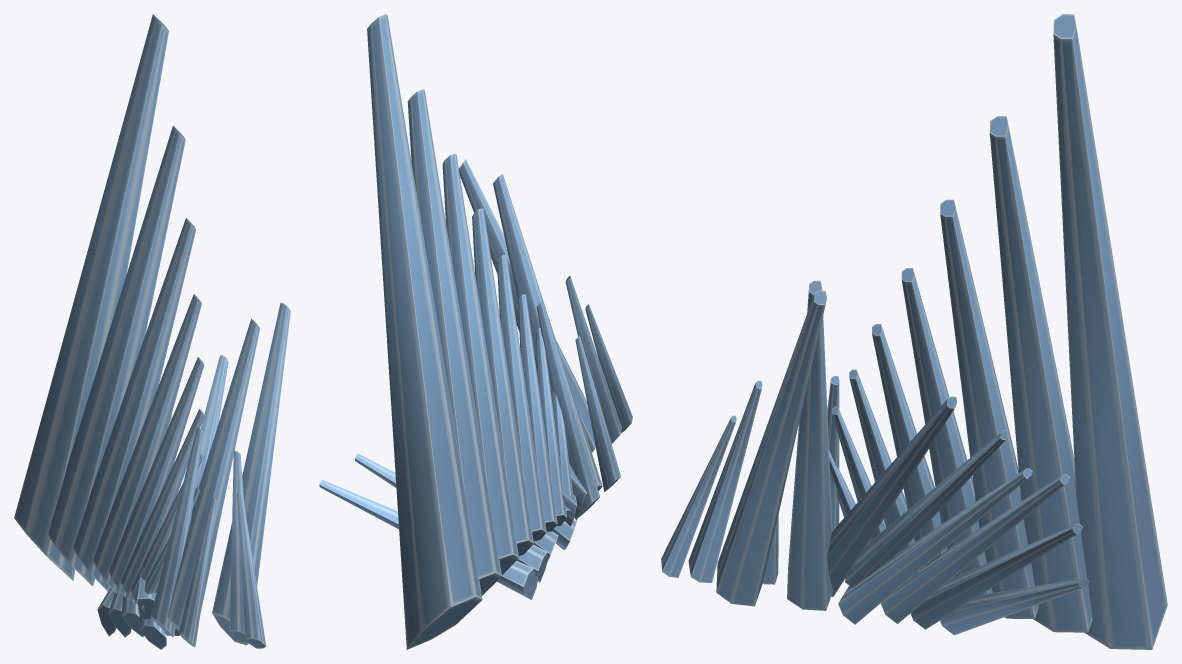
File: wall_railing_04.fbx
3 renders of one model, left to right at view 1: azimuth 30°, elevation 25°; view 2: azimuth 150°, elevation 25°; view 3: azimuth 270°, elevation 25°, orthographic. The views are drawn at different scales.
Parts seen in each view (by area): view 1: wall_railing_04; view 2: wall_railing_04; view 3: wall_railing_04.
Boxes of the visible parts, x1=… form: wall_railing_04: x1=14, y1=14, x2=290, y2=649; wall_railing_04: x1=319, y1=14, x2=632, y2=649; wall_railing_04: x1=661, y1=14, x2=1167, y2=649.
Bounding box in the file's own units: 0.5747 × 1.94 × 1.32.
Materials: 1 (1 with a texture image).
